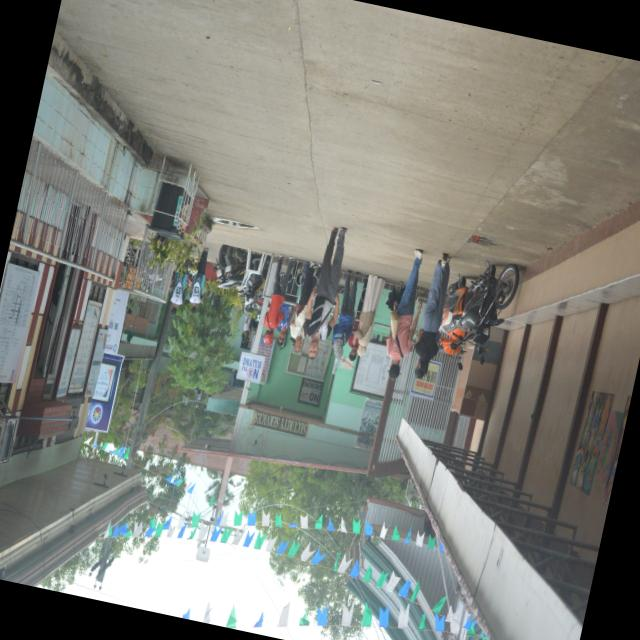person: (305, 227, 346, 358), (386, 249, 422, 379), (414, 253, 449, 377), (263, 254, 293, 344), (289, 261, 318, 351), (353, 274, 384, 355), (332, 269, 359, 358), (347, 278, 367, 360), (189, 247, 207, 313), (170, 269, 186, 315), (276, 300, 292, 345), (241, 313, 251, 339)
